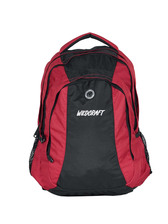bag: (26, 31, 154, 196)
